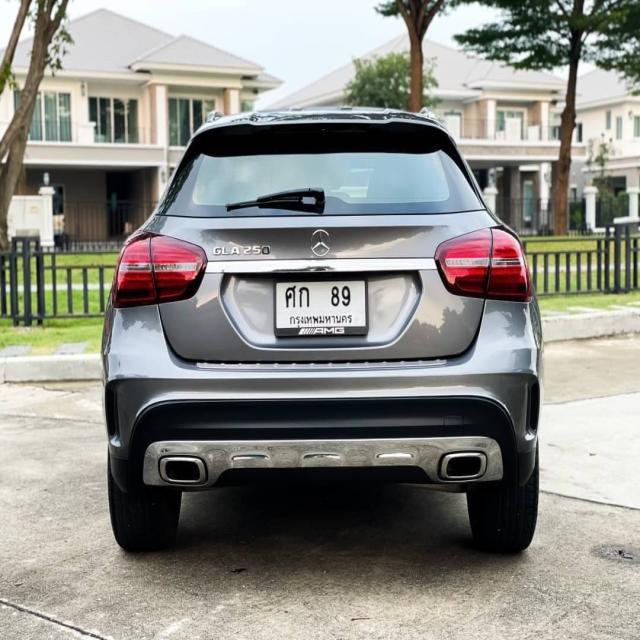license_plate: (273, 274, 370, 338)
